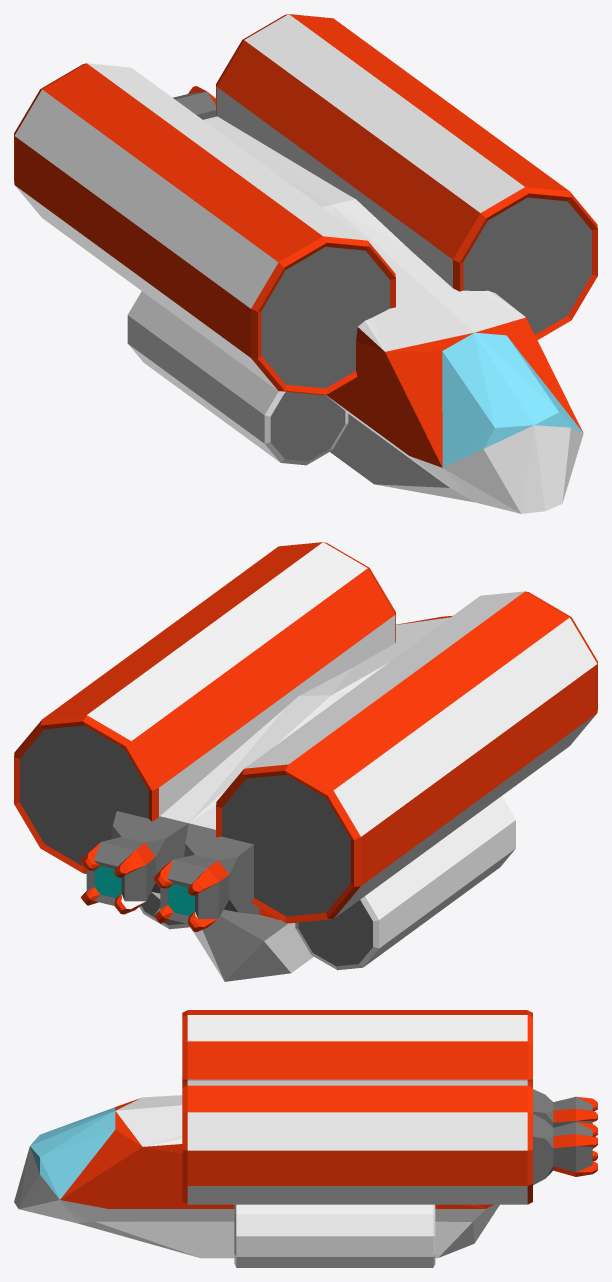
The model's file is Spaceship_3.fbx.
3 views of the same model, one above another, from view 1: azimuth 30°, elevation 25°; view 2: azimuth 150°, elevation 25°; view 3: azimuth 270°, elevation 25° (orthographic). The views are drawn at different scales.
Parts seen in each view (by area): view 1: _11_1; view 2: _11_1; view 3: _11_1.
Part boxes in pixels (bbox=[...]): _11_1: bbox=[14, 14, 597, 513]; _11_1: bbox=[14, 542, 597, 981]; _11_1: bbox=[14, 1010, 597, 1267].
Size of the model in its own units: 912 by 677 by 1851.
